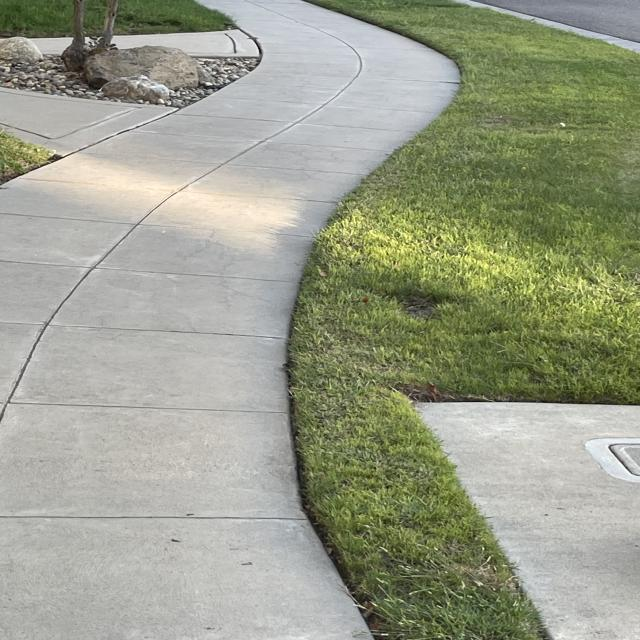walkway: (4, 426, 188, 623), (12, 305, 198, 473), (4, 186, 303, 285), (72, 154, 358, 209), (201, 104, 414, 148), (254, 76, 452, 111), (269, 40, 423, 78), (228, 13, 352, 45)
